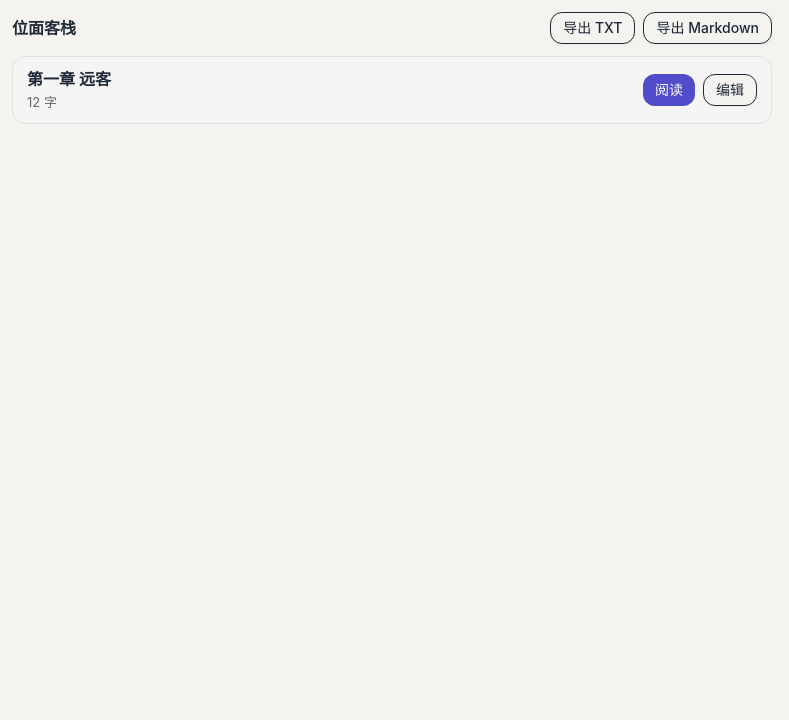
Scenario: ManuscriptPanel › 保存冲突 → 保留用户输入并给出"重新加载"出路
Click the button "编辑" at (730, 90), box x1=703 y1=74 x2=757 y2=106
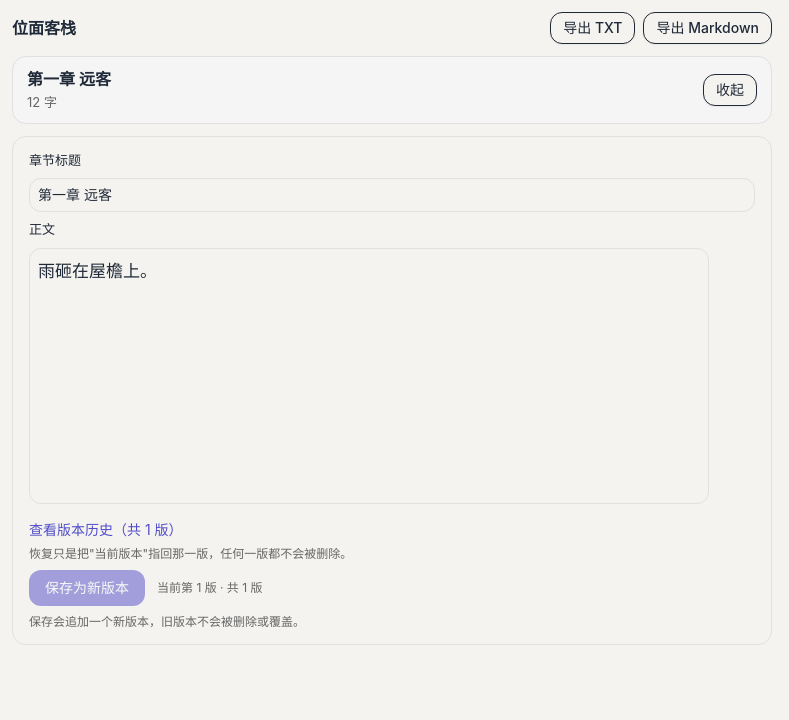
Now the text box labelled "正文" is shown
Type "我的修改" into the text box labelled "正文" at (369, 376), box x1=29 y1=248 x2=709 y2=504
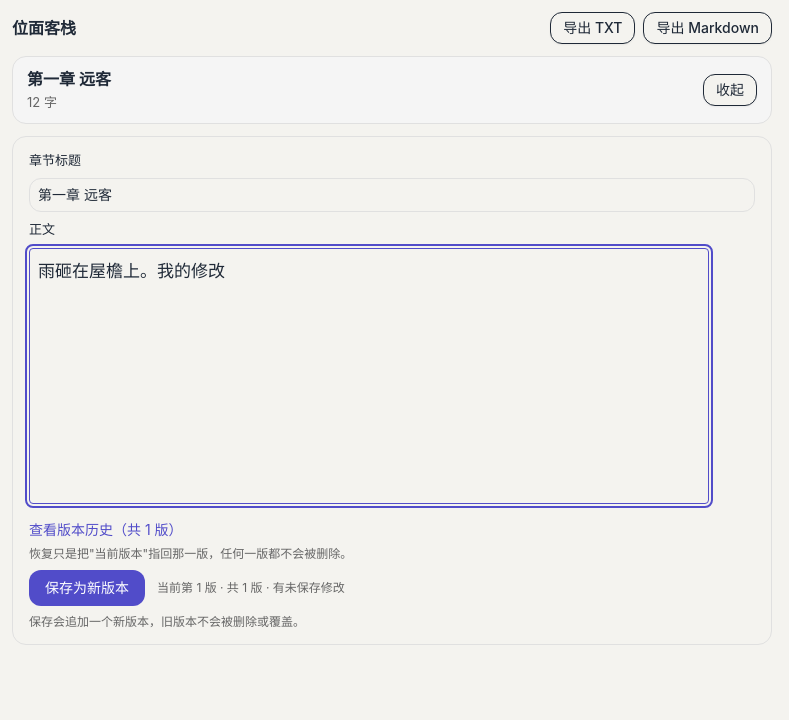
Click the button "保存为新版本" at (87, 588), box x1=29 y1=570 x2=145 y2=606
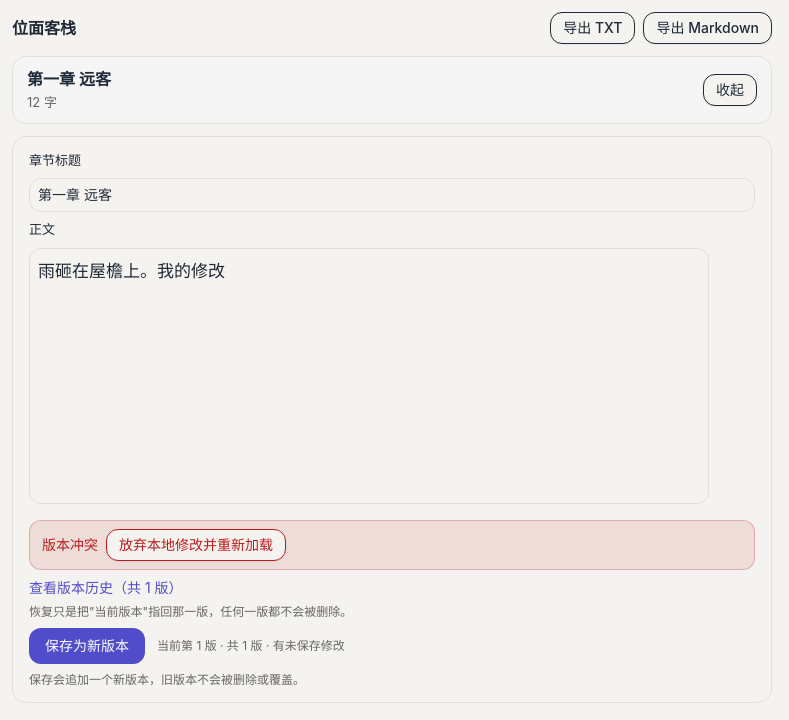
Now the message "版本冲突 放弃本地修改并重新加载" is shown, box x1=29 y1=520 x2=755 y2=570
Now the button "放弃本地修改并重新加载" is shown, box x1=106 y1=528 x2=286 y2=560
